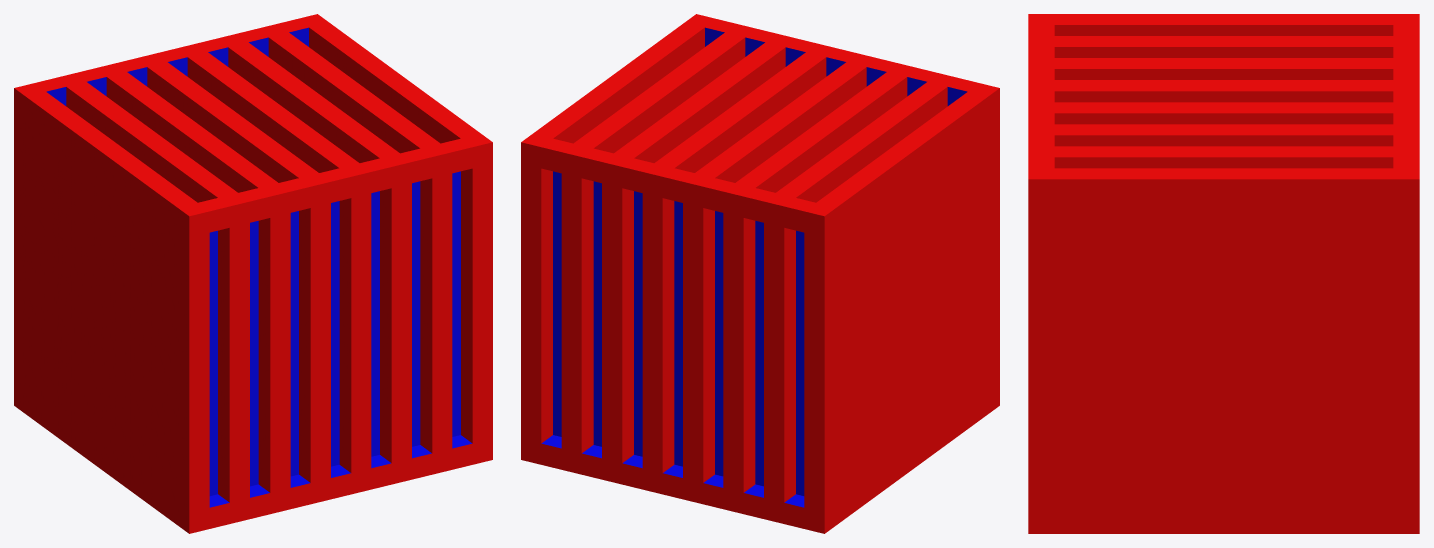
3 renders of one model, left to right at view 1: azimuth 30°, elevation 25°; view 2: azimuth 150°, elevation 25°; view 3: azimuth 270°, elevation 25°, orthographic. The views are drawn at different scales.
Visible parts, largest first — view 1: Объект_Куб; view 2: Объект_Куб; view 3: Объект_Куб.
Part boxes in pixels (x1=…): Объект_Куб: x1=14, y1=14, x2=492, y2=533; Объект_Куб: x1=521, y1=14, x2=999, y2=533; Объект_Куб: x1=1028, y1=14, x2=1419, y2=533.
Bounding box in the file's own units: 100 × 100 × 100.
